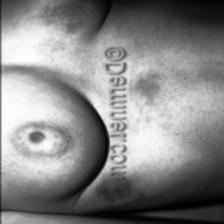Unclassified: (40, 3, 88, 34), (100, 175, 138, 201)
